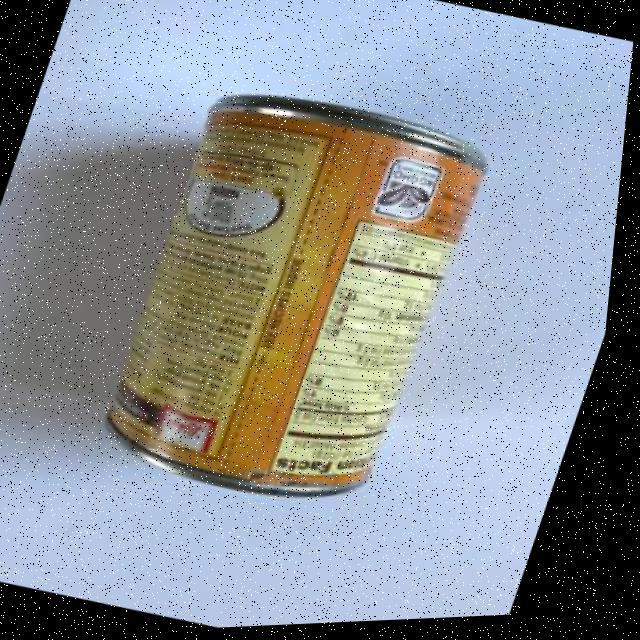metal: (69, 62, 521, 538)
